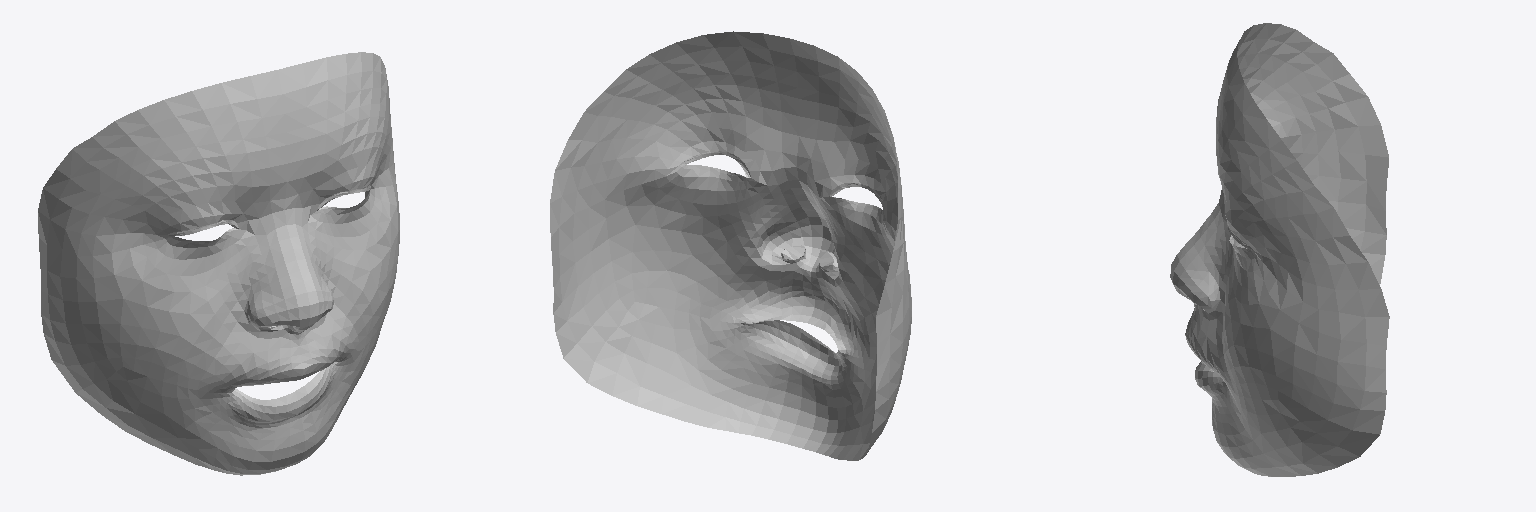
The model's file is mouthLowerDown_R.obj.
The picture shows the model from 3 angles: view 1: azimuth 30°, elevation 25°; view 2: azimuth 150°, elevation 25°; view 3: azimuth 270°, elevation 25°; orthographic projection.
Visible parts, largest first — view 1: default; view 2: default; view 3: default.
Part boxes in pixels (x1,y1,x2,y2): default: (38, 52, 399, 475); default: (550, 31, 911, 460); default: (1170, 23, 1389, 476).
Bounding box in the file's own units: 0.1624 × 0.1855 × 0.0913.